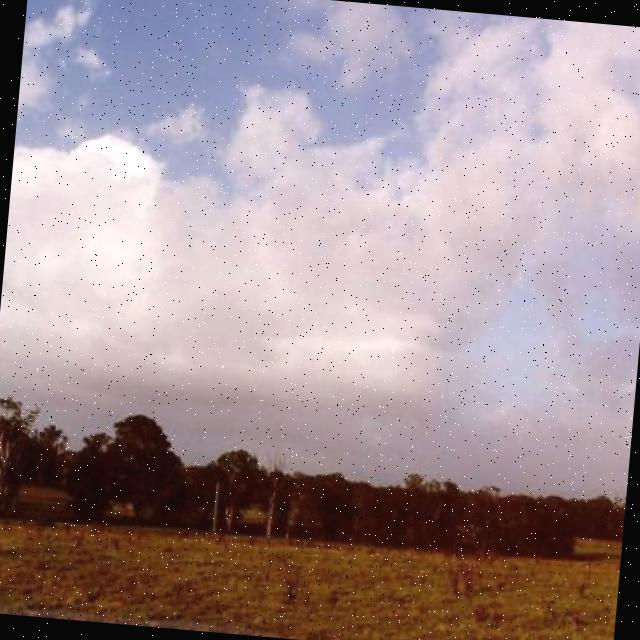Sc: (1, 1, 640, 424)
